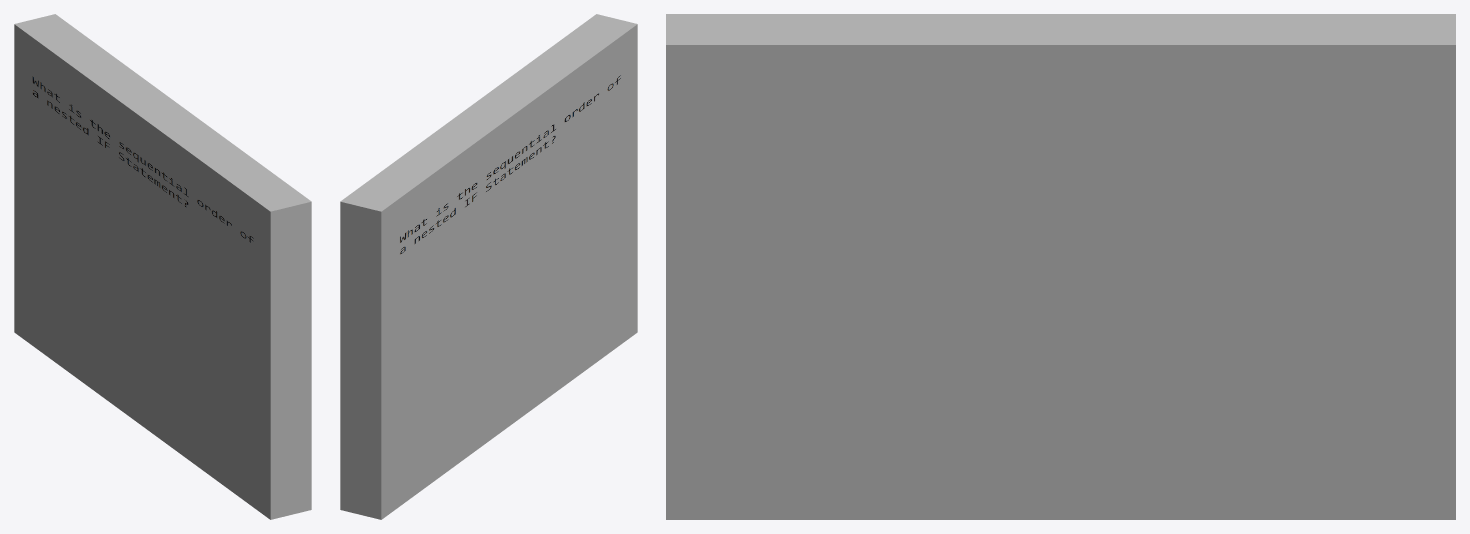
The model's file is order-baselvl2.fbx.
3 renders of one model, left to right at view 1: azimuth 30°, elevation 25°; view 2: azimuth 150°, elevation 25°; view 3: azimuth 270°, elevation 25°, orthographic. The views are drawn at different scales.
Visible parts, largest first — view 1: Cube; view 2: Cube; view 3: Cube.
Boxes of the visible parts, <box> form: Cube: <box>14,14,311,519</box>; Cube: <box>340,14,637,519</box>; Cube: <box>666,14,1455,519</box>.
Size of the model in its own units: 28.01 by 200 by 301.
